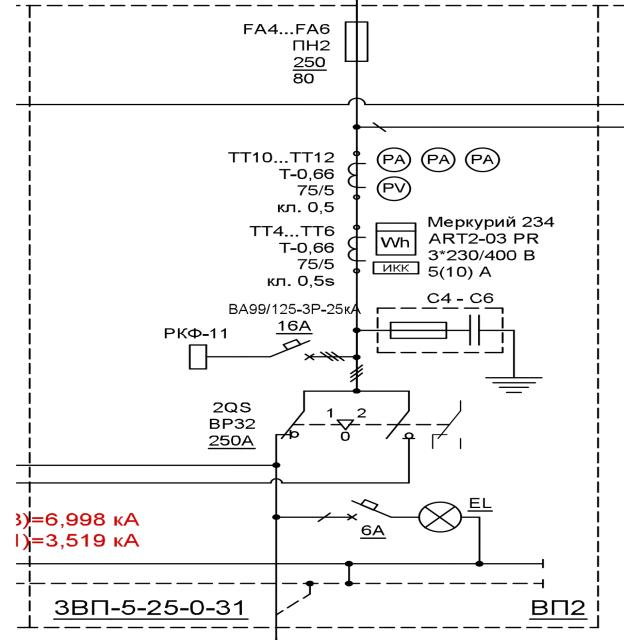-: (424, 211, 558, 283), (51, 596, 249, 618), (227, 300, 361, 332), (264, 240, 342, 292), (273, 166, 341, 214), (290, 39, 333, 90), (204, 415, 264, 451), (155, 324, 228, 344), (354, 523, 388, 539)
AUX: (426, 397, 471, 453)
FU: (341, 19, 372, 64)
HL: (416, 502, 464, 534)
K: (186, 342, 209, 371)
PA: (376, 146, 413, 174), (464, 146, 502, 173), (420, 146, 457, 173)
PV: (374, 176, 413, 203)
QF: (343, 498, 393, 522), (268, 338, 316, 361)
QS: (277, 409, 419, 441)
TT: (346, 160, 368, 192), (346, 234, 368, 265)
WH: (374, 220, 419, 257)
